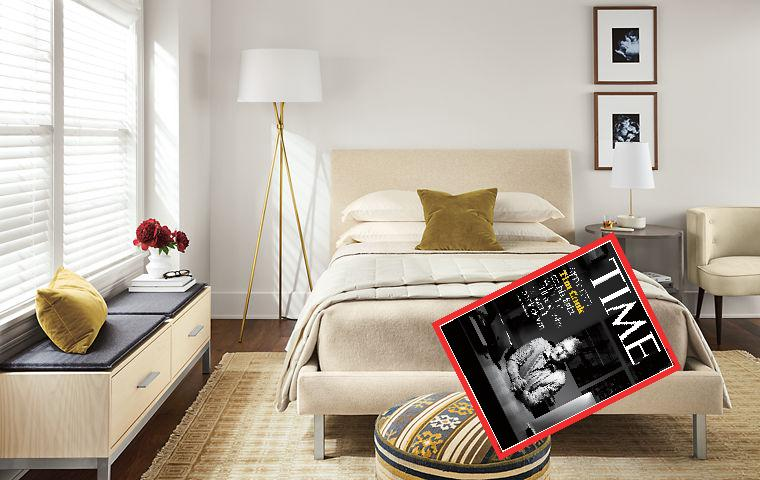times: (430, 234, 684, 463)
